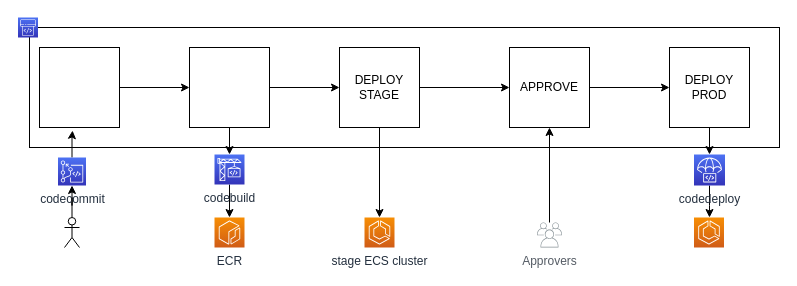
This 797x286 diagram has some shape labels left out. Each missing label, with the centre of its shape:
Actor: pixel 72 232
BUILD: pixel 229 87
Prod ECS cluster: pixel 708 232
SOURCE: pixel 79 87
